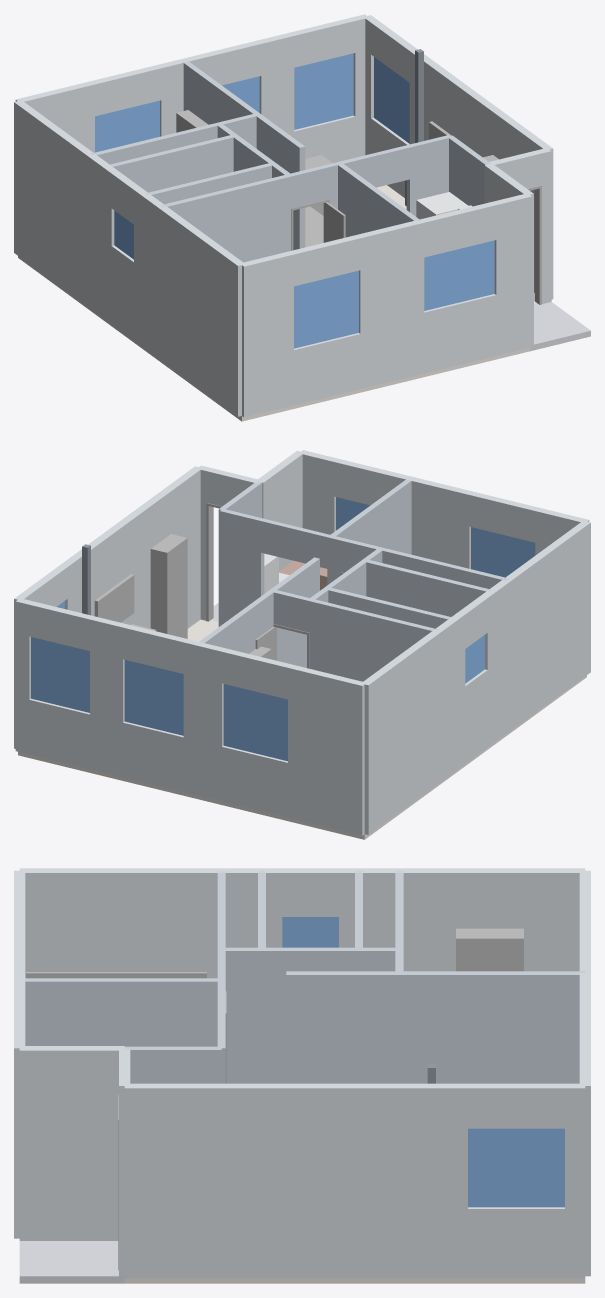
File: Departamento_01-01.obj
3 renders of one model, top to bottom at view 1: azimuth 30°, elevation 25°; view 2: azimuth 150°, elevation 25°; view 3: azimuth 270°, elevation 25°, orthographic. The views are drawn at different scales.
Visible parts, largest first — view 1: 01_Muros_Exteriores, 02_Tabiques_Interiores, 01B_Ventanas_Aluminio, 00_Piso_Ceramico_33x33, 00_Palier_Edificio, 02B_Marcos_Puertas_Chapa, 04B_Sanitarios_Y_Termo, 03_Calefactores_Tiro_Balanceado, 05B_Muebles_Madera_Caoba, 02C_Hojas_Puertas_Madera, 05_Muebles_Living_Comedor; view 2: 01_Muros_Exteriores, 02_Tabiques_Interiores, 01B_Ventanas_Aluminio, 05D_Electronica_Y_Perchero, 00_Piso_Ceramico_33x33, 02B_Marcos_Puertas_Chapa, 03_Calefactores_Tiro_Balanceado, 04B_Sanitarios_Y_Termo; view 3: 01_Muros_Exteriores, 02_Tabiques_Interiores, 01B_Ventanas_Aluminio, 00_Palier_Edificio, 05C_Muebles_Madera_Nogal, 00_Piso_Ceramico_33x33.
Part boxes in pixels (left/top/right/bottom): 01_Muros_Exteriores: left=14, top=14, right=553, bottom=417; 02_Tabiques_Interiores: left=90, top=60, right=490, bottom=262; 01B_Ventanas_Aluminio: left=95, top=53, right=494, bottom=348; 00_Piso_Ceramico_33x33: left=18, top=185, right=536, bottom=421; 00_Palier_Edificio: left=530, top=302, right=590, bottom=351; 02B_Marcos_Puertas_Chapa: left=256, top=148, right=541, bottom=304; 04B_Sanitarios_Y_Termo: left=416, top=192, right=472, bottom=219; 03_Calefactores_Tiro_Balanceado: left=405, top=49, right=423, bottom=205; 05B_Muebles_Madera_Caoba: left=176, top=110, right=406, bottom=215; 02C_Hojas_Puertas_Madera: left=323, top=202, right=345, bottom=242; 05_Muebles_Living_Comedor: left=305, top=206, right=323, bottom=247; 01_Muros_Exteriores: left=14, top=450, right=590, bottom=835; 02_Tabiques_Interiores: left=197, top=479, right=508, bottom=681; 01B_Ventanas_Aluminio: left=31, top=497, right=535, bottom=761; 05D_Electronica_Y_Perchero: left=94, top=534, right=187, bottom=638; 00_Piso_Ceramico_33x33: left=18, top=619, right=586, bottom=839; 02B_Marcos_Puertas_Chapa: left=206, top=503, right=343, bottom=668; 03_Calefactores_Tiro_Balanceado: left=82, top=544, right=90, bottom=615; 04B_Sanitarios_Y_Termo: left=264, top=553, right=289, bottom=593; 01_Muros_Exteriores: left=14, top=868, right=590, bottom=1278; 02_Tabiques_Interiores: left=25, top=871, right=585, bottom=1083; 01B_Ventanas_Aluminio: left=282, top=917, right=564, bottom=1207; 00_Palier_Edificio: left=19, top=1241, right=124, bottom=1283; 05C_Muebles_Madera_Nogal: left=26, top=928, right=523, bottom=978; 00_Piso_Ceramico_33x33: left=124, top=1278, right=585, bottom=1283.
Bounding box in the file's own units: 6.44 × 2.9 × 7.14.
